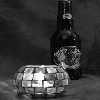beer: (52, 1, 87, 80)
